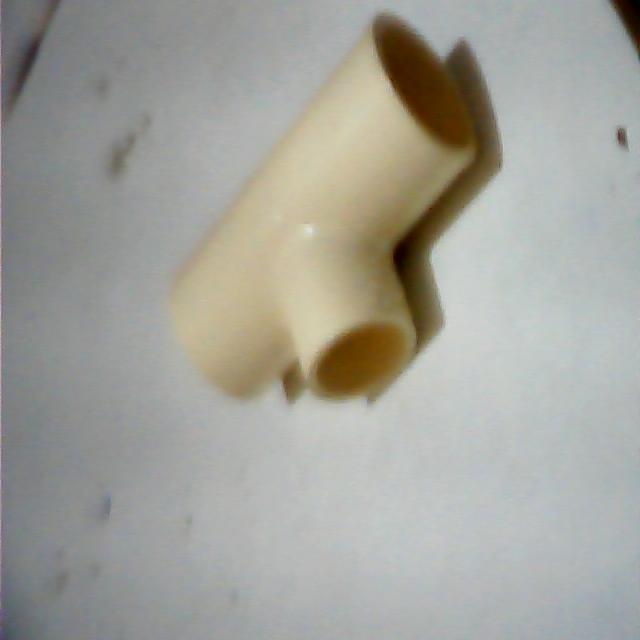T Joint: (168, 14, 478, 405)
